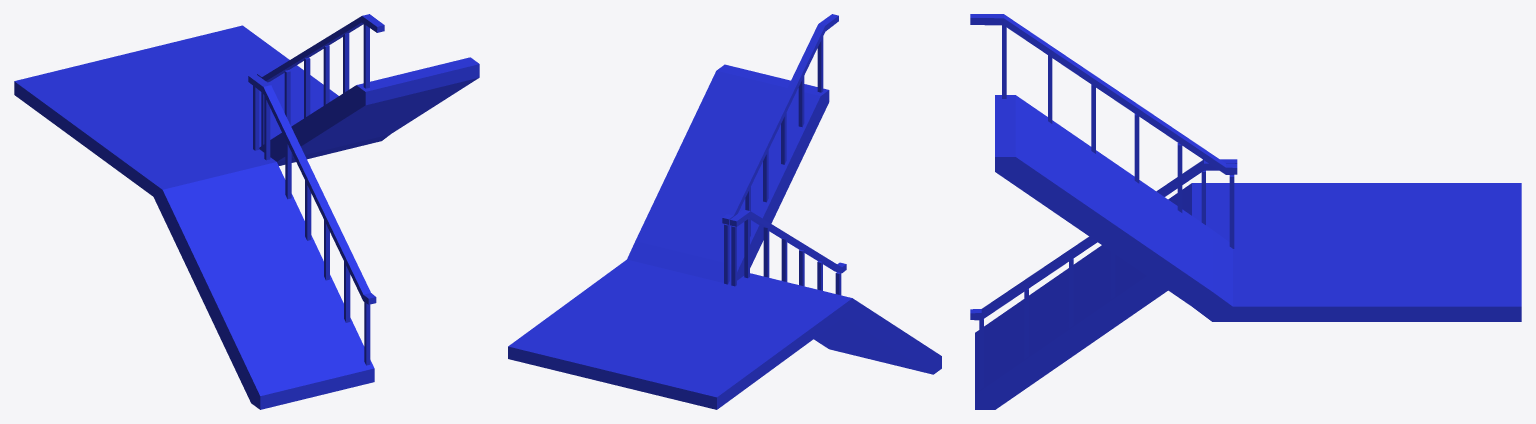
The model's file is InteriorStairs_Collision.fbx.
3 views of the same model, side by side, from view 1: azimuth 30°, elevation 25°; view 2: azimuth 150°, elevation 25°; view 3: azimuth 270°, elevation 25° (orthographic). The views are drawn at different scales.
Visible parts, largest first — view 1: InteriorStairs_Collision; view 2: InteriorStairs_Collision; view 3: InteriorStairs_Collision.
Part boxes in pixels (box(x1,y1,x2,y2)): InteriorStairs_Collision: box(14, 14, 479, 409); InteriorStairs_Collision: box(508, 14, 941, 409); InteriorStairs_Collision: box(970, 14, 1521, 409).
Size of the model in its own units: 142 by 211 by 267.
